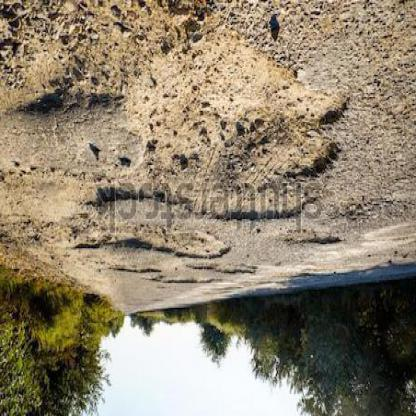pothole: (129, 2, 354, 226), (66, 219, 232, 265), (147, 260, 220, 288), (189, 263, 260, 280), (284, 231, 344, 251)
